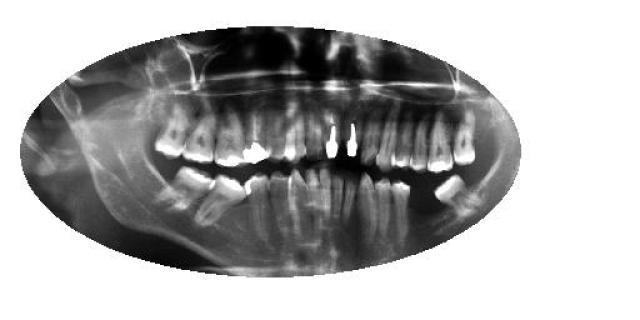Fillings: (425, 108, 455, 174), (242, 105, 272, 165), (215, 105, 241, 167)
Implant: (322, 109, 343, 160), (345, 105, 360, 163)
